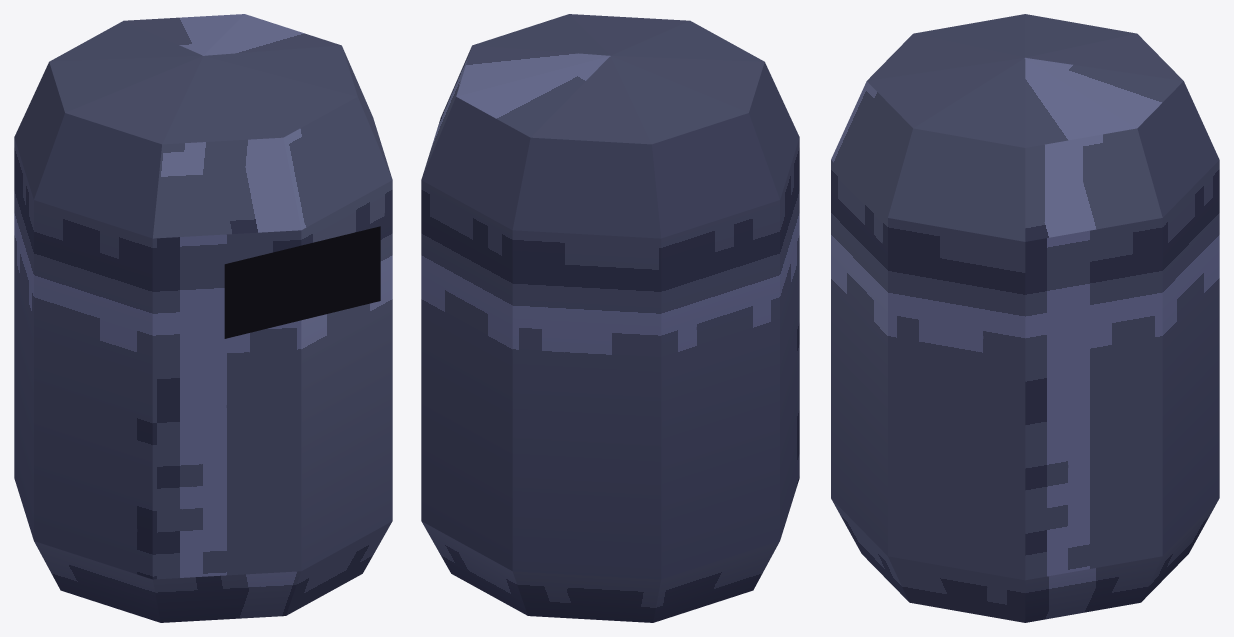
File: cydress.bin.glb
3 renders of one model, left to right at view 1: azimuth 30°, elevation 25°; view 2: azimuth 150°, elevation 25°; view 3: azimuth 270°, elevation 25°, orthographic.
Parts seen in each view (by area): view 1: kit_body, kit_card_details; view 2: kit_body; view 3: kit_body.
Boxes of the visible parts, x1,y1,x2,y2 form: kit_body: (14,14,392,622); kit_card_details: (224,226,380,338); kit_body: (421,14,799,622); kit_body: (831,14,1219,622).
Size of the model in its own units: 0.76 by 1.07 by 0.765.
2 materials, 2 textured.
